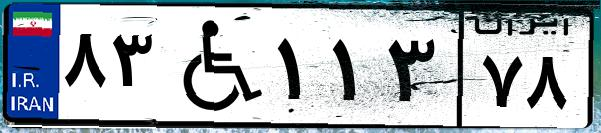1: (270, 28, 330, 110), (330, 28, 385, 110)
3: (385, 28, 445, 110), (110, 28, 158, 98)
7: (475, 38, 525, 113)
8: (57, 26, 110, 100), (525, 38, 570, 115)
ژ (معلولین و جانبازان): (158, 12, 270, 120)
